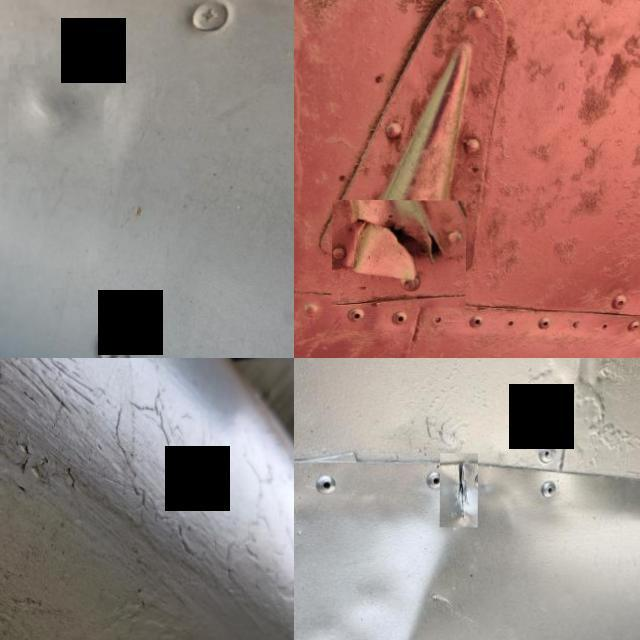Crack: (332, 200, 467, 308), (441, 453, 478, 527)
Dent: (294, 470, 532, 640), (9, 64, 104, 164)
